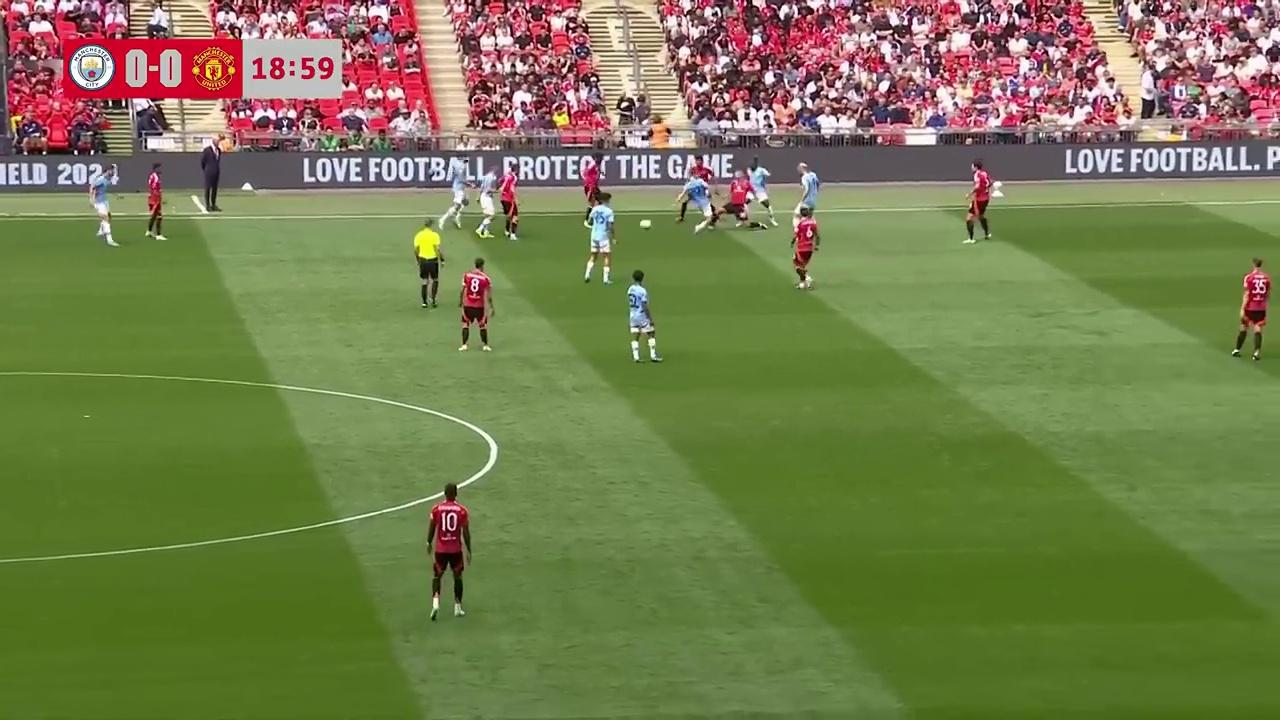ball: (638, 215, 652, 230)
player: (425, 484, 472, 622), (1231, 258, 1271, 361), (625, 270, 662, 363), (458, 257, 494, 352), (583, 195, 616, 284), (672, 175, 713, 238), (90, 166, 119, 247), (964, 160, 992, 242), (791, 209, 819, 289), (689, 149, 721, 217), (724, 172, 760, 232), (745, 162, 774, 228), (441, 175, 470, 231), (144, 166, 165, 240), (500, 168, 519, 239), (475, 178, 497, 238), (796, 159, 820, 214), (580, 160, 601, 222)
referee: (413, 217, 445, 309)
